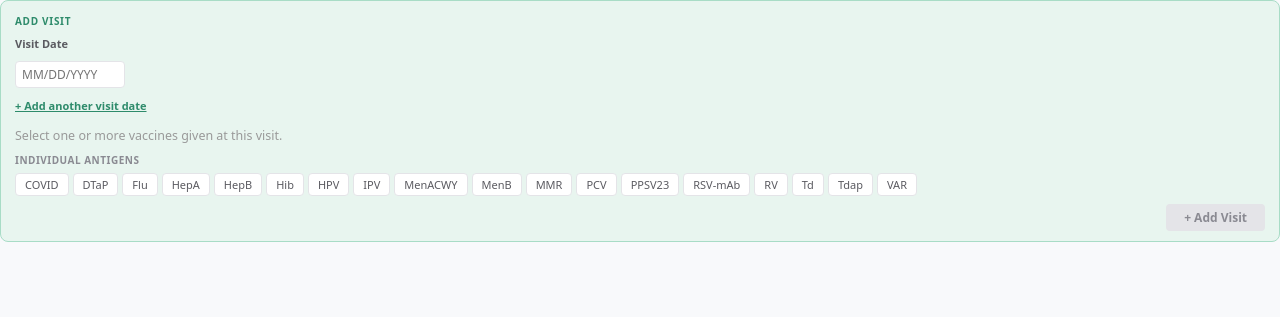
Test: VisitEntry — multi-date › selecting a vaccine then deselecting it re-disables the submit button
Click the button "DTaP" at point(96, 184), box top-left (73, 173), bottom-right (118, 196)
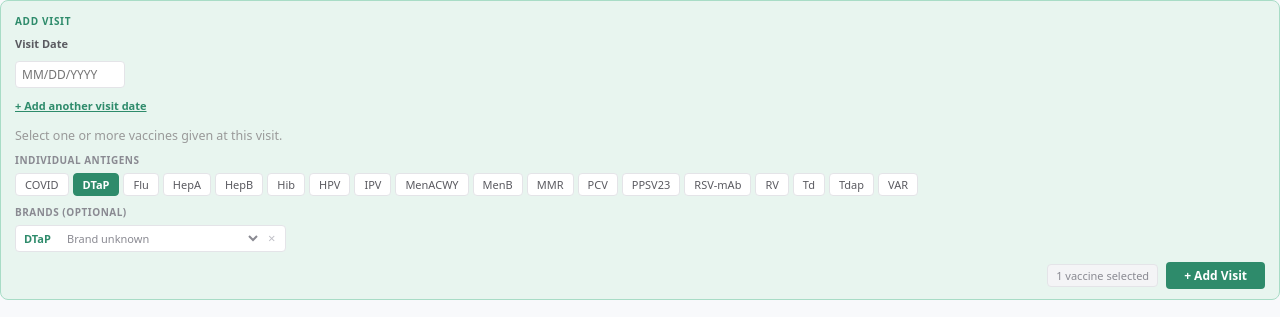
Expected: the button "+ Add Visit" is enabled, top-left (1166, 262), bottom-right (1265, 289)
Click the button "DTaP" at point(96, 184), box top-left (73, 173), bottom-right (120, 196)
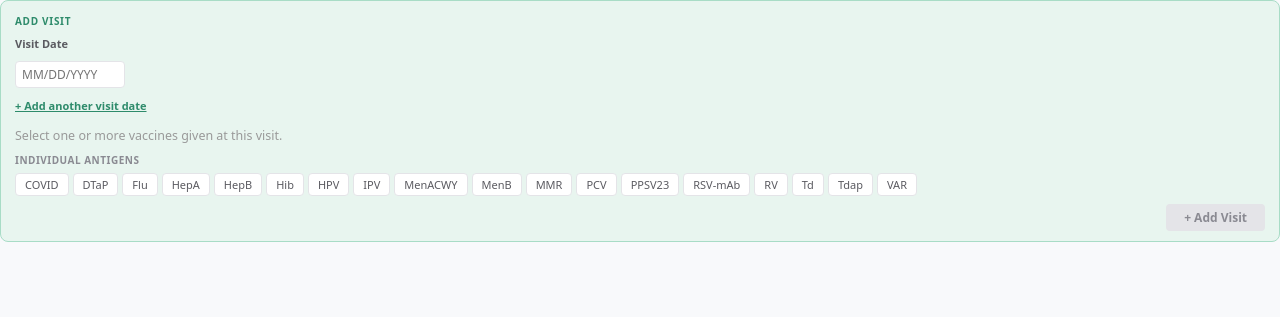
Expected: the button "+ Add Visit" is disabled, top-left (1166, 204), bottom-right (1265, 231)
